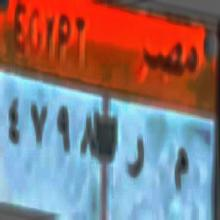4: (6, 100, 26, 149)
7: (31, 99, 49, 153)
8: (79, 105, 96, 163)
9: (55, 100, 71, 149)
meem: (168, 136, 194, 204)
raa: (124, 126, 150, 188)
